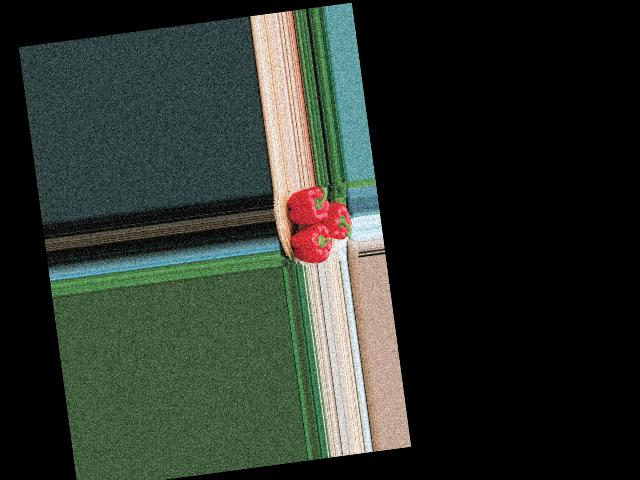bell_pepper: (280, 185, 332, 232)
